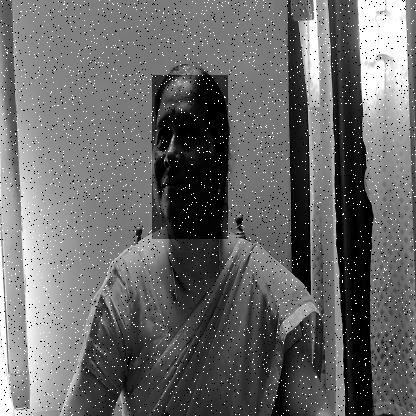Distracted: (152, 75, 228, 239)
